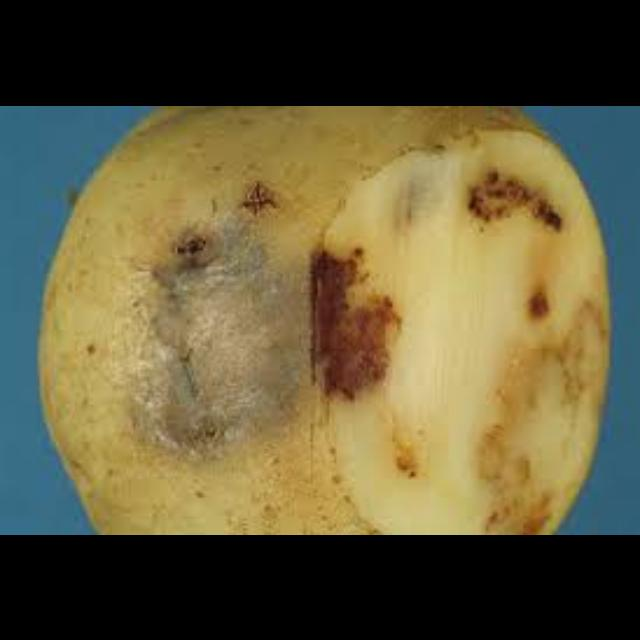Diseased-fungal potato: (29, 106, 616, 534)
